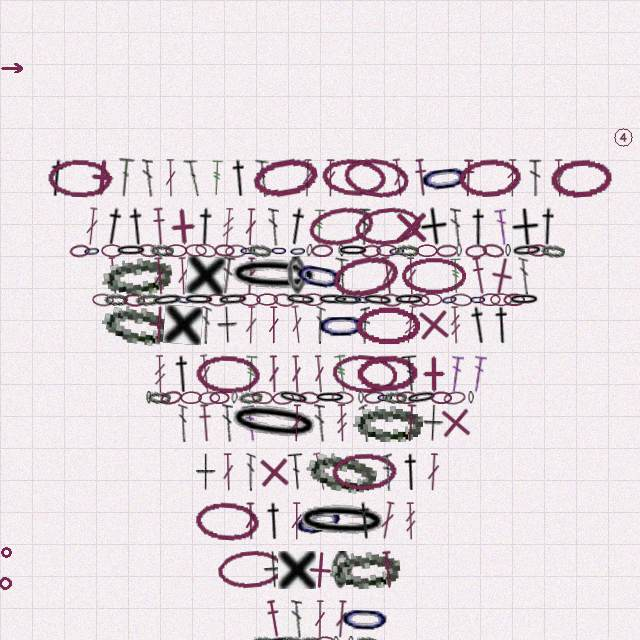chain: (225, 398, 323, 447), (294, 500, 390, 542), (226, 255, 322, 296), (304, 448, 379, 496), (329, 251, 401, 301), (306, 202, 377, 251), (100, 301, 174, 348), (100, 253, 174, 299), (250, 154, 320, 202), (341, 154, 411, 201), (353, 204, 422, 249), (329, 548, 401, 591), (216, 548, 285, 591), (331, 352, 398, 395), (320, 156, 387, 199), (289, 497, 349, 545), (194, 500, 261, 542), (290, 252, 349, 299), (549, 157, 614, 199), (457, 157, 523, 198), (331, 452, 398, 492), (353, 404, 423, 442), (47, 158, 113, 198), (195, 354, 260, 394), (355, 306, 420, 344), (401, 257, 466, 295), (356, 354, 419, 393), (416, 156, 473, 199), (338, 599, 392, 638), (315, 306, 368, 344), (286, 256, 308, 295), (331, 551, 352, 589), (277, 388, 310, 407), (405, 389, 438, 406), (151, 292, 184, 308), (361, 292, 394, 308), (284, 292, 317, 307), (217, 292, 249, 307), (511, 243, 543, 258), (332, 293, 364, 307), (314, 391, 346, 404), (183, 293, 215, 306), (317, 293, 349, 306), (393, 293, 425, 306), (508, 293, 540, 306), (115, 244, 147, 257), (337, 244, 369, 257), (159, 389, 183, 406), (194, 242, 218, 259), (481, 242, 505, 259), (272, 292, 296, 308), (238, 390, 263, 405), (135, 292, 160, 307), (247, 243, 272, 258), (443, 390, 466, 406), (251, 390, 274, 405), (363, 390, 386, 405), (137, 243, 160, 258), (541, 244, 565, 258), (298, 391, 321, 405), (331, 391, 354, 405), (147, 391, 171, 404), (383, 391, 407, 404), (104, 293, 128, 306), (150, 244, 174, 257), (395, 244, 419, 257), (198, 391, 220, 405), (272, 391, 294, 405), (92, 293, 114, 307), (123, 293, 145, 307), (206, 293, 228, 307), (380, 293, 402, 307), (408, 293, 430, 307), (450, 293, 472, 307), (69, 244, 91, 258), (225, 244, 247, 258), (360, 244, 382, 258), (436, 244, 458, 258), (465, 244, 487, 258), (180, 391, 202, 404), (396, 391, 418, 404), (430, 391, 452, 404), (239, 293, 261, 306), (256, 293, 278, 306), (302, 293, 324, 306), (420, 293, 442, 306), (479, 293, 501, 306), (490, 293, 512, 306), (503, 293, 525, 306), (101, 244, 123, 257), (165, 244, 187, 257), (185, 244, 207, 257), (311, 244, 333, 257), (376, 244, 398, 257), (416, 244, 438, 257), (527, 244, 549, 257), (174, 292, 193, 307), (353, 292, 372, 307), (440, 292, 459, 307), (209, 391, 230, 404), (214, 244, 235, 257), (83, 244, 101, 258), (289, 244, 307, 258), (388, 244, 406, 258), (376, 391, 394, 404), (469, 293, 487, 306), (239, 244, 257, 257), (270, 244, 288, 257), (265, 635, 297, 640), (281, 635, 306, 640), (251, 636, 275, 640), (299, 636, 323, 640), (354, 636, 378, 640), (231, 391, 238, 404), (306, 244, 313, 257), (338, 244, 345, 257), (314, 636, 336, 640), (146, 391, 152, 404), (358, 391, 364, 404), (468, 391, 474, 404), (456, 244, 462, 257), (505, 244, 511, 257), (333, 636, 340, 640), (348, 636, 354, 640)
double: (183, 158, 204, 197), (378, 501, 397, 540), (287, 452, 306, 491), (401, 354, 420, 393), (116, 158, 135, 197), (242, 403, 259, 442), (197, 354, 214, 393), (470, 354, 487, 393), (219, 256, 236, 295), (379, 256, 396, 295), (390, 158, 407, 197), (448, 354, 464, 393), (289, 305, 305, 344), (84, 207, 100, 246), (494, 207, 510, 246), (255, 159, 271, 197), (106, 256, 121, 295), (334, 600, 349, 638), (426, 453, 441, 491), (312, 355, 327, 393), (152, 257, 167, 295), (243, 257, 258, 295), (221, 453, 235, 491), (358, 404, 372, 442), (267, 355, 281, 393), (244, 306, 258, 344), (176, 257, 190, 295), (335, 257, 349, 295), (404, 257, 418, 295), (552, 159, 566, 197), (244, 502, 257, 540), (290, 502, 303, 540), (290, 404, 303, 442), (290, 355, 303, 393), (267, 306, 280, 344), (518, 257, 531, 295), (244, 208, 257, 246), (358, 208, 371, 246), (164, 159, 177, 197), (301, 159, 314, 197), (324, 159, 337, 197), (529, 159, 542, 197), (291, 600, 303, 638), (314, 600, 326, 638), (382, 453, 394, 491), (314, 404, 326, 442), (200, 306, 212, 344), (314, 306, 326, 344), (450, 208, 462, 246), (142, 159, 154, 197), (245, 453, 256, 491), (222, 404, 233, 442), (268, 208, 279, 246), (178, 404, 188, 442), (360, 306, 370, 344)
half_double: (100, 206, 128, 247), (283, 206, 311, 247), (466, 305, 492, 345), (44, 158, 70, 198), (193, 207, 218, 246), (353, 501, 377, 540), (125, 207, 149, 246), (536, 207, 560, 246), (171, 355, 194, 393), (467, 208, 490, 246), (228, 159, 251, 197), (263, 502, 285, 540), (400, 453, 422, 491), (491, 306, 513, 344), (264, 599, 284, 638), (469, 256, 489, 295), (412, 158, 431, 197), (379, 550, 397, 589), (151, 207, 168, 246), (197, 404, 214, 442), (402, 404, 419, 442), (460, 159, 476, 197)
noise: (612, 126, 635, 149), (0, 63, 25, 73), (0, 576, 13, 591), (0, 545, 13, 559)
single: (480, 254, 524, 298), (435, 402, 476, 443), (413, 304, 454, 345), (185, 255, 226, 296), (162, 206, 203, 247), (82, 157, 123, 198), (300, 550, 340, 590), (254, 452, 294, 492), (163, 305, 203, 345), (140, 305, 179, 344), (278, 551, 316, 589), (415, 355, 453, 393), (392, 208, 430, 246), (417, 206, 450, 247), (509, 207, 541, 247), (263, 550, 285, 589), (423, 404, 444, 442), (217, 306, 238, 344), (196, 453, 216, 491)
treble: (310, 452, 330, 491), (333, 354, 350, 393), (402, 305, 419, 344), (243, 355, 259, 393), (220, 208, 236, 246), (335, 404, 349, 442), (153, 355, 167, 393), (449, 257, 463, 295), (210, 159, 224, 197), (404, 502, 417, 540), (449, 306, 462, 344), (313, 208, 326, 246), (506, 159, 519, 197)
